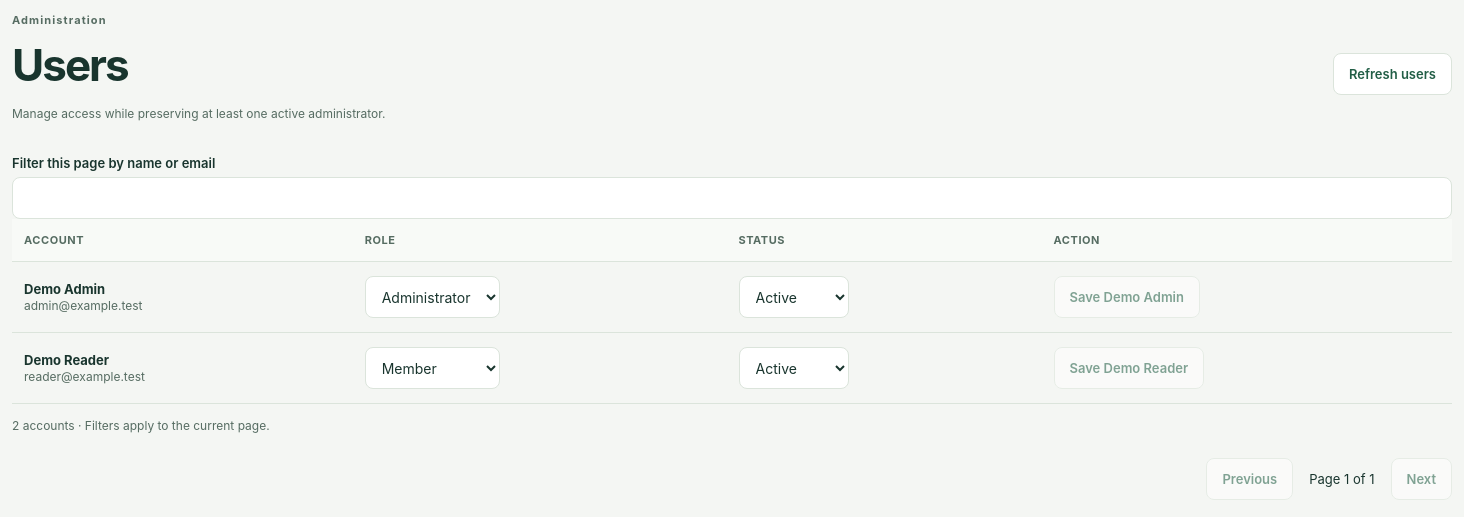
Test: administrator user management › loads safe account information and filters the current page
Expected: the text "reader@example.test" is shown, [24,369,145,384]
Type "reader" into the search field at (732, 198), box [12,177,1452,219]
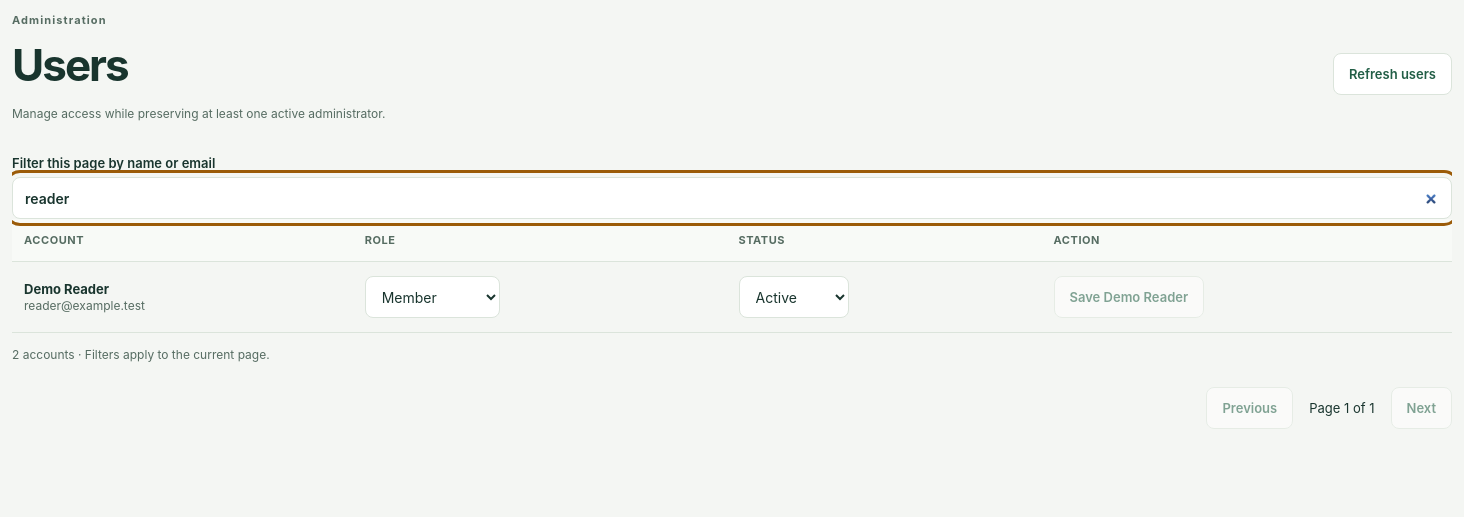
Expected: the text "reader@example.test" is shown, [24,298,145,313]
Result: the text "admin@example.test" is gone
